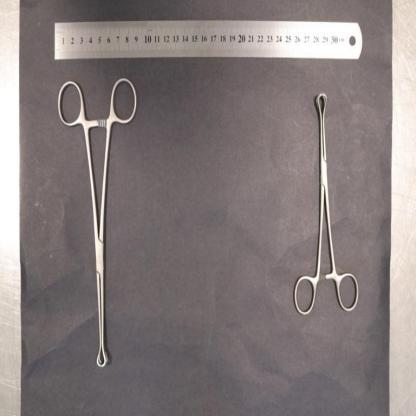8 Babcock Tissue Forceps: (58, 78, 138, 368)
Babcock Tissue Forceps: (294, 91, 360, 316)
